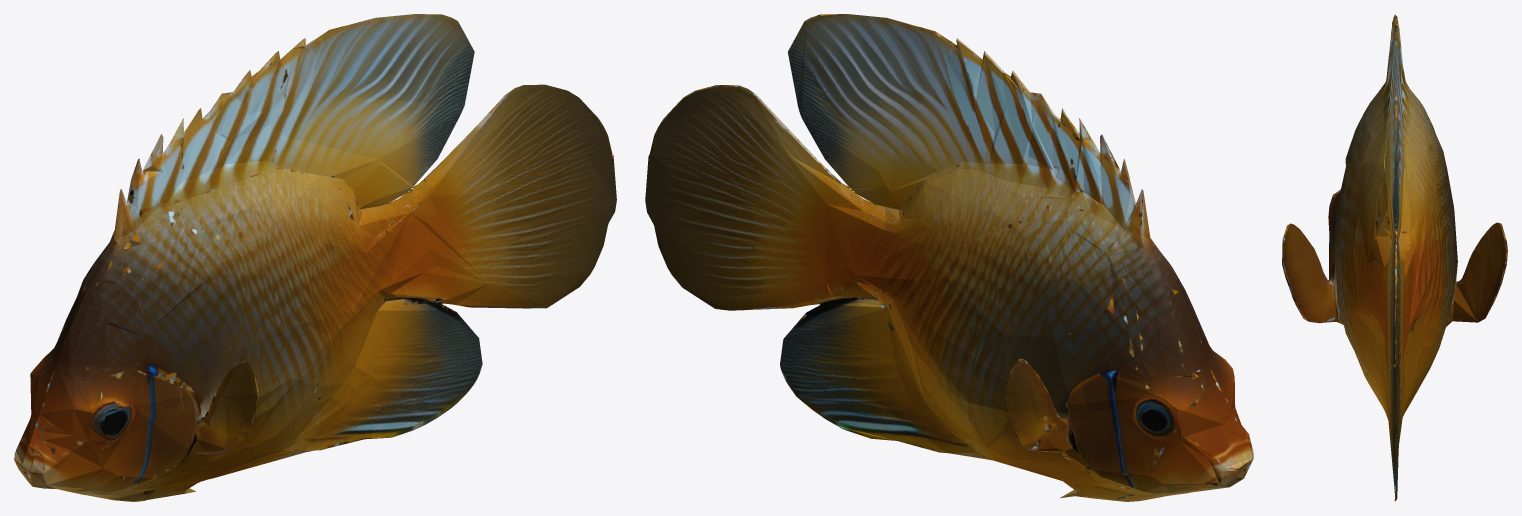
The model's file is fish_0055_smpl23_resized.glb.
The picture shows the model from 3 angles, left to right: view 1: azimuth 30°, elevation 25°; view 2: azimuth 150°, elevation 25°; view 3: azimuth 270°, elevation 25°; orthographic projection.
Parts seen in each view (by area): view 1: world; view 2: world; view 3: world.
Part boxes in pixels (box(x1,y1,x2,y2)): world: box(14, 14, 616, 501); world: box(645, 14, 1253, 501); world: box(1282, 14, 1507, 501).
Size of the model in its own units: 1.98 by 1.37 by 0.645.
1 material, 1 textured.
